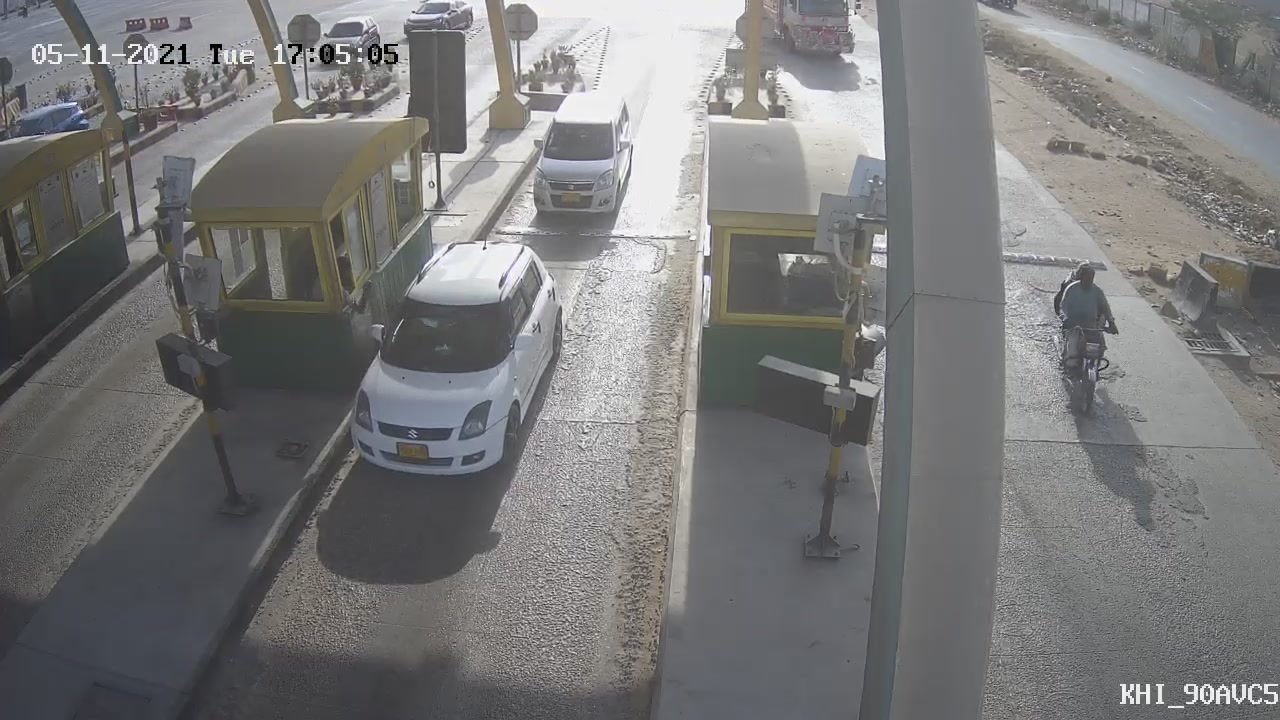F1: (317, 223, 589, 501), (512, 78, 649, 232)
